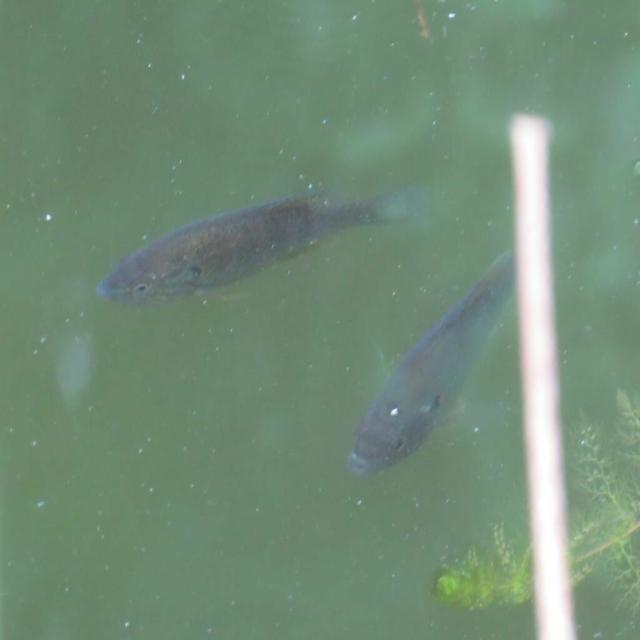Gunes Levregi: (95, 181, 432, 306), (346, 247, 516, 478)
